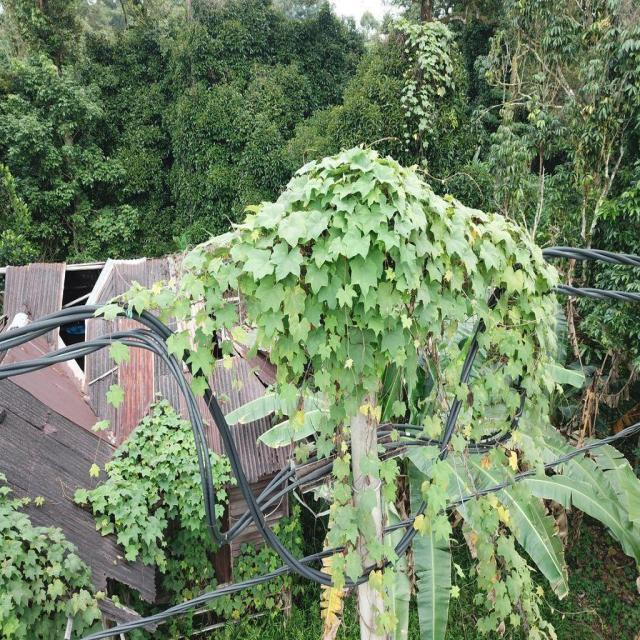critical vegetation: (132, 136, 554, 636)
